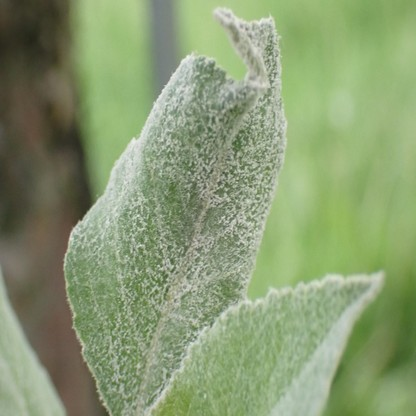powder: (63, 7, 287, 415), (150, 272, 386, 413)
